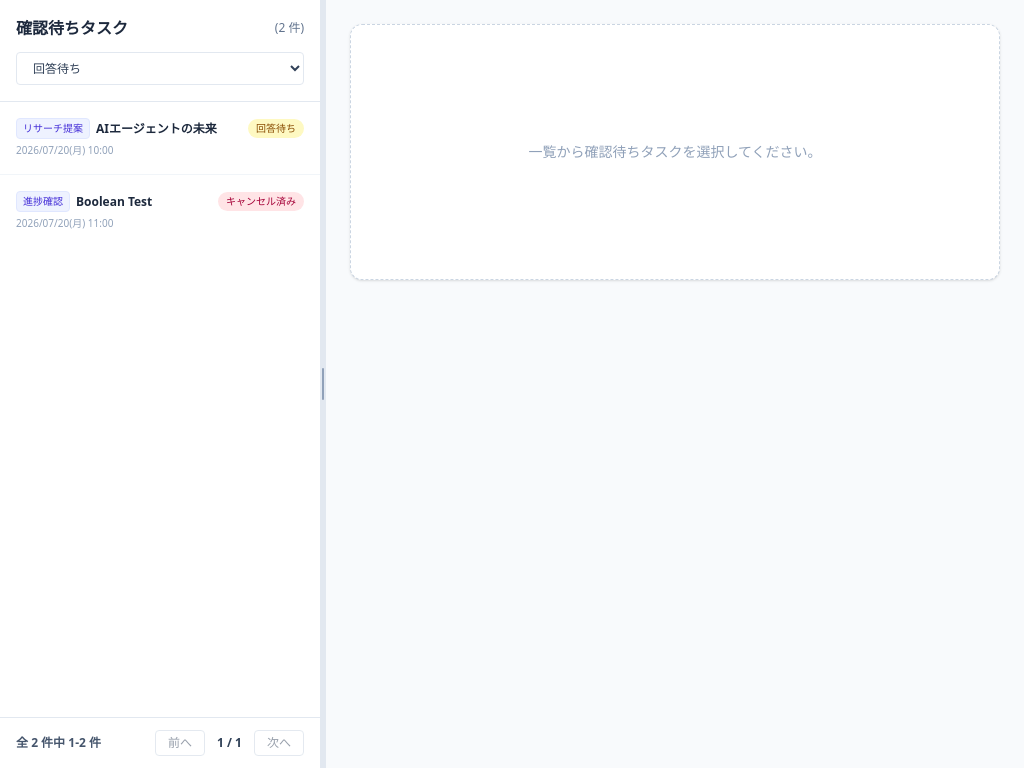
Test: HitlPage › calendar/reminder context rendering › renders calendar event start/end times via formatDateTime
What coordinates should you click on to do the following:
click the text "AIエージェントの未来"
I would click on:
 (156, 128)
Its box is 96,120 -> 217,136.
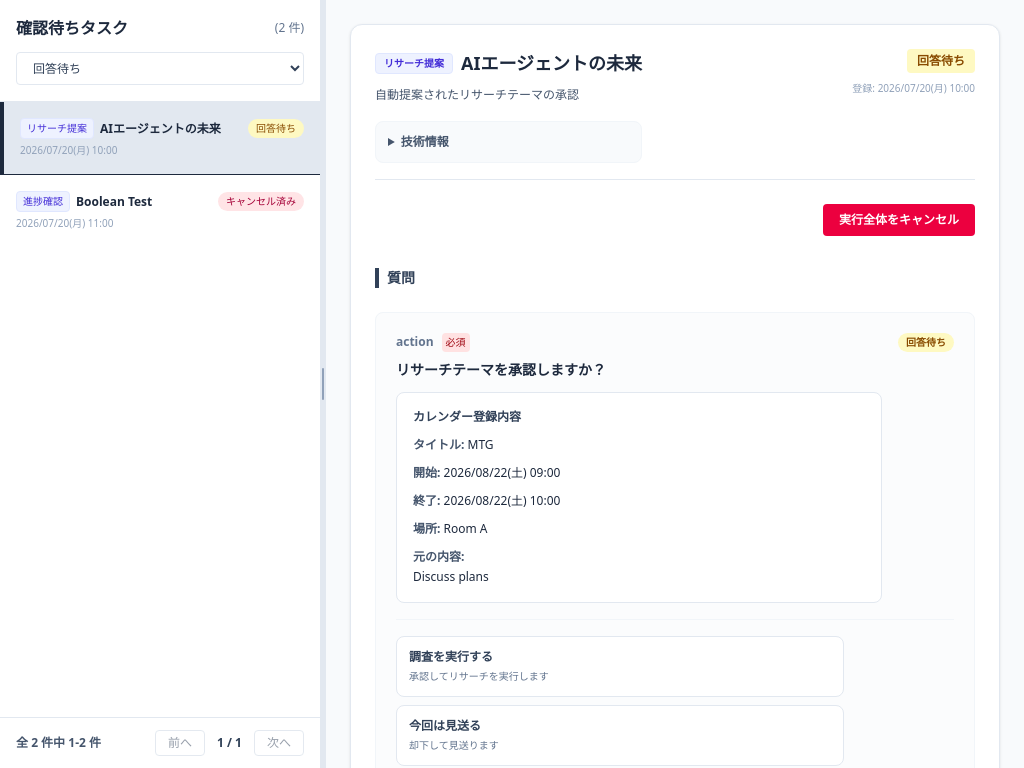
Check: the element with test id "calendar-event-context" shows "元の内容: Discuss plans", box 396,392 -> 882,603
